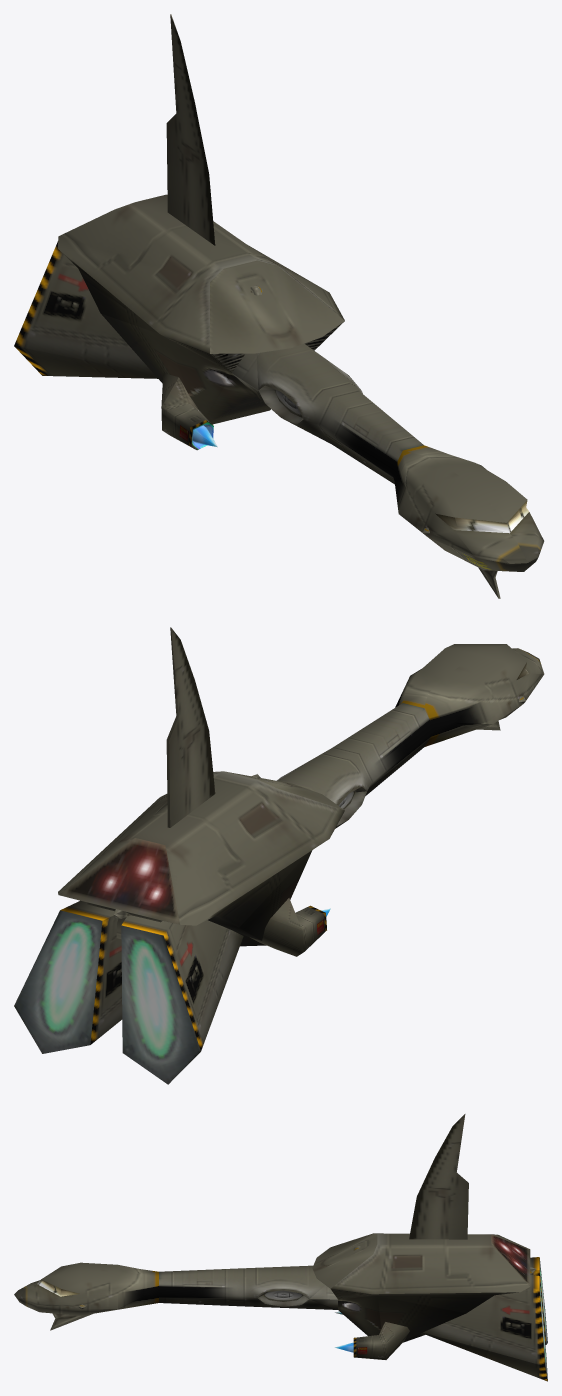
File: cap20.obj
3 renders of one model, top to bottom at view 1: azimuth 30°, elevation 25°; view 2: azimuth 150°, elevation 25°; view 3: azimuth 270°, elevation 25°, orthographic. The views are drawn at different scales.
Parts seen in each view (by area): view 1: frm-body_1_1, frm-cube12, frm-cube5, frm-cube6; view 2: frm-body_1_1, frm-cube12, frm-cube3, frm-cube5, frm-cube6; view 3: frm-body_1_1, frm-cube3, frm-cube5, frm-cube13, frm-cube12.
Boxes of the visible parts, x1,y1,x2,y2 form: frm-body_1_1: (58,194,544,571); frm-cube12: (14,241,157,378); frm-cube5: (166,14,215,245); frm-cube6: (161,373,217,450); frm-body_1_1: (58,644,544,946); frm-cube12: (121,915,243,1084); frm-cube3: (14,900,122,1053); frm-cube5: (166,627,215,827); frm-cube6: (250,898,330,956); frm-body_1_1: (14,1233,530,1342); frm-cube3: (422,1274,547,1381); frm-cube5: (409,1114,468,1239); frm-cube13: (334,1322,409,1359); frm-cube12: (530,1257,547,1344).
Size of the model in its own units: 2.18 by 4.39 by 8.54.
